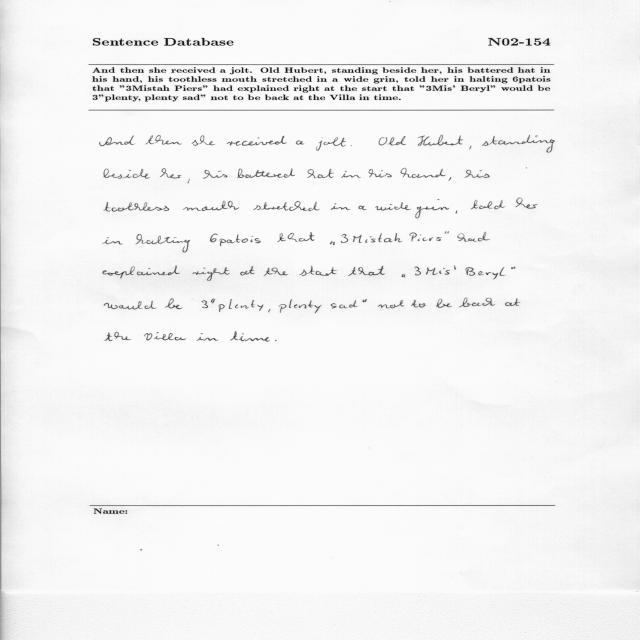word: (482, 135, 555, 152), (103, 266, 180, 279), (136, 234, 190, 252), (415, 199, 449, 219), (253, 201, 320, 211), (104, 202, 169, 212), (210, 234, 261, 246), (341, 233, 402, 243), (279, 300, 322, 314), (227, 136, 287, 146), (219, 299, 264, 312), (237, 169, 295, 179), (183, 201, 239, 211), (459, 298, 520, 307), (192, 267, 230, 281), (104, 168, 150, 179), (418, 135, 463, 146), (465, 267, 505, 279), (104, 301, 156, 310), (400, 168, 446, 178), (230, 331, 270, 342), (316, 137, 346, 151), (415, 266, 456, 276), (100, 136, 135, 147), (278, 232, 315, 242), (300, 266, 337, 276), (348, 266, 385, 276), (146, 135, 182, 145), (471, 200, 505, 210), (144, 332, 186, 340), (457, 232, 490, 242), (375, 202, 411, 211), (409, 233, 442, 242), (192, 135, 216, 146), (515, 198, 538, 209), (379, 136, 406, 145), (307, 169, 334, 178), (331, 300, 358, 309), (160, 169, 181, 179), (464, 170, 490, 178), (378, 300, 404, 308), (264, 268, 289, 276), (165, 298, 183, 309), (203, 170, 227, 178), (369, 169, 392, 177), (197, 333, 218, 341), (436, 299, 452, 308), (341, 171, 361, 178), (103, 238, 123, 245), (114, 332, 131, 340), (331, 203, 350, 210), (202, 299, 215, 309), (241, 267, 255, 276), (411, 300, 426, 308), (105, 333, 112, 341), (358, 206, 367, 210), (296, 141, 304, 145), (330, 241, 335, 245), (362, 299, 367, 302), (449, 177, 452, 181), (402, 274, 406, 277), (470, 146, 472, 150), (188, 179, 190, 183), (445, 232, 449, 234), (511, 267, 515, 269), (269, 309, 271, 312), (456, 210, 457, 214), (350, 145, 352, 146), (275, 340, 277, 341)
